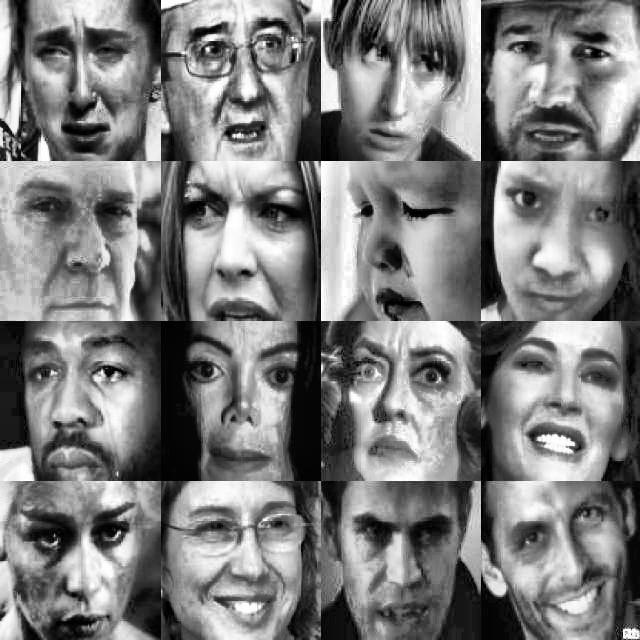angry: (9, 489, 145, 640), (178, 161, 307, 317), (497, 164, 625, 316), (494, 11, 623, 155), (14, 170, 137, 319), (350, 494, 456, 640)
fear: (172, 4, 300, 158), (341, 328, 463, 472), (346, 20, 450, 157)
happy: (502, 478, 624, 640), (500, 322, 628, 473), (183, 491, 306, 640)
neutral: (182, 330, 304, 476)
sad: (17, 323, 151, 479), (339, 164, 468, 320), (26, 11, 135, 155)
